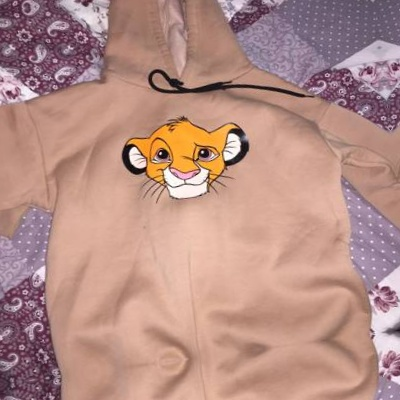Hoodie: (0, 0, 400, 383), (7, 329, 400, 400), (370, 0, 400, 327), (0, 0, 366, 14), (0, 387, 43, 400)
